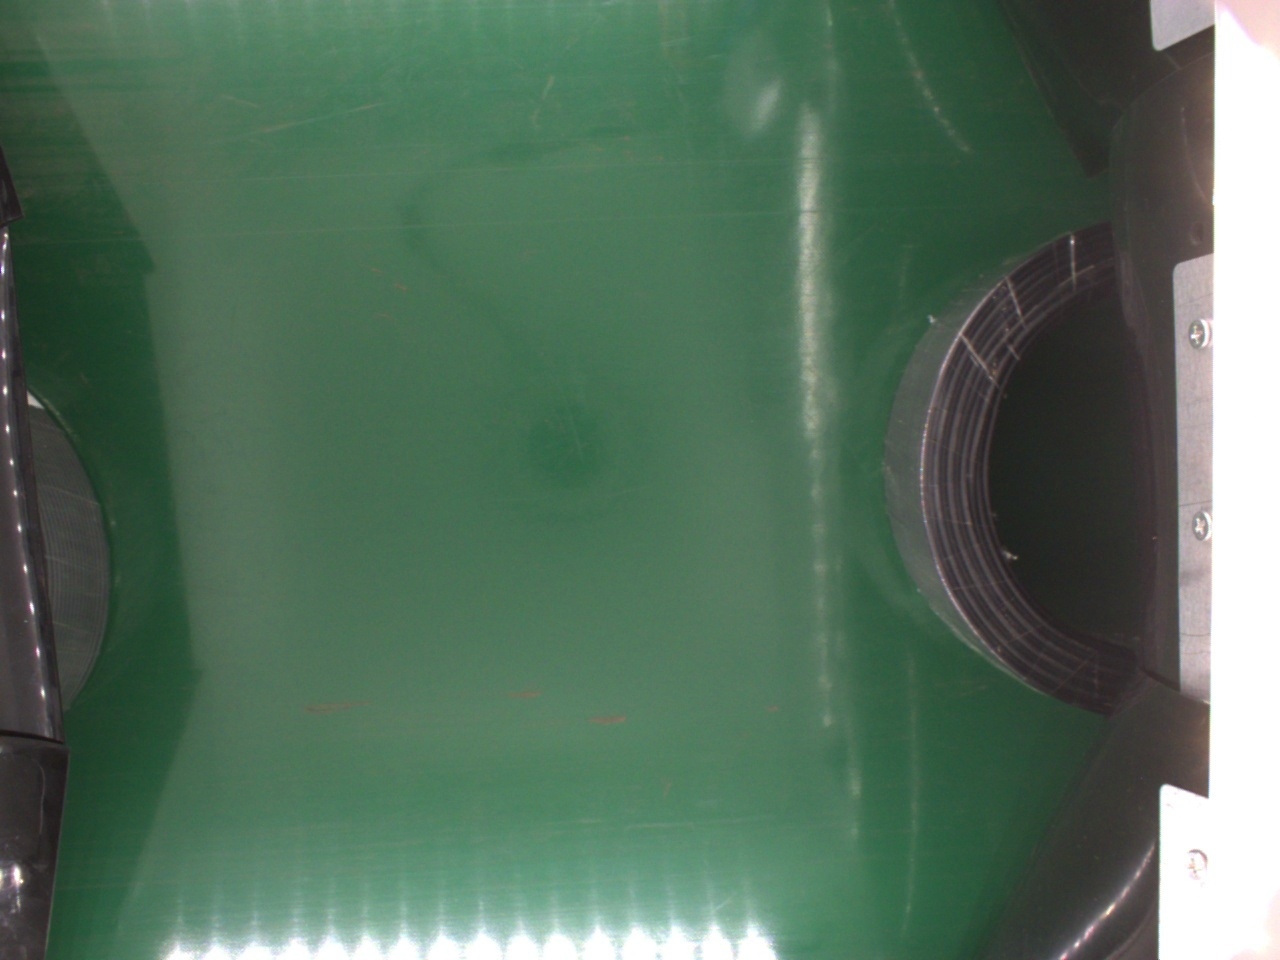black: (885, 222, 1181, 725)
